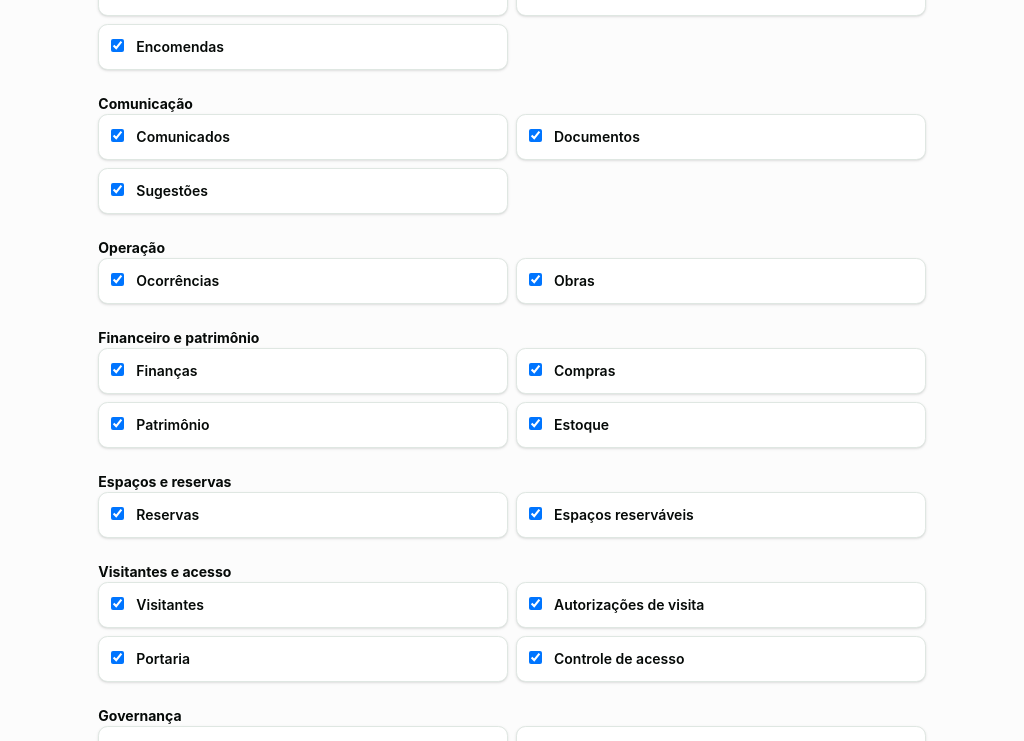
TenantModulesPage › shows an error state when the save is refused
(page scrolled)
Click the checkbox labelled "Finanças": (118, 370) [111,363,124,376]
(page scrolled)
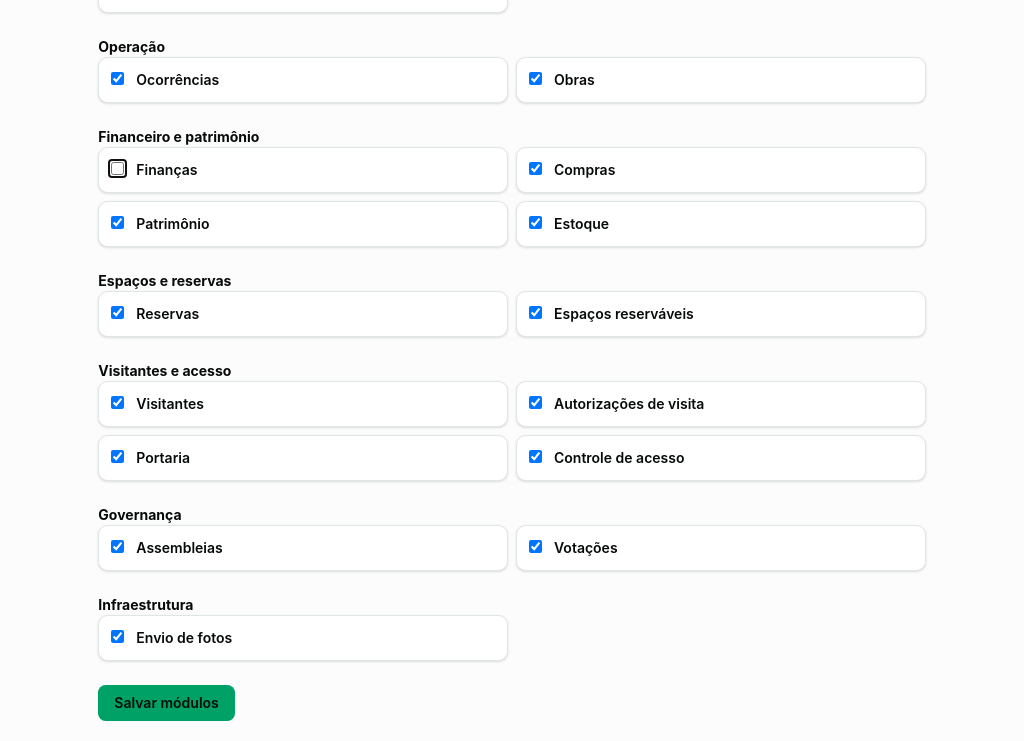
Click the button "Salvar módulos": (167, 703) [98,685,235,721]
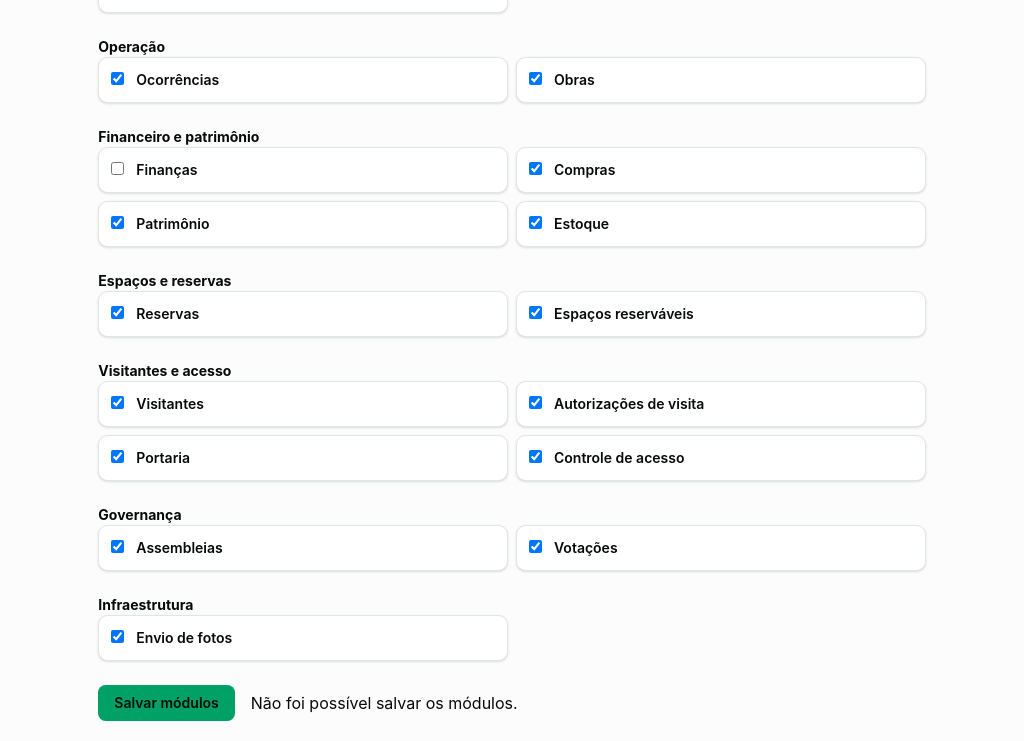
Result: the text "Não foi possível salvar os módulos." is shown at [251,691,518,715]
